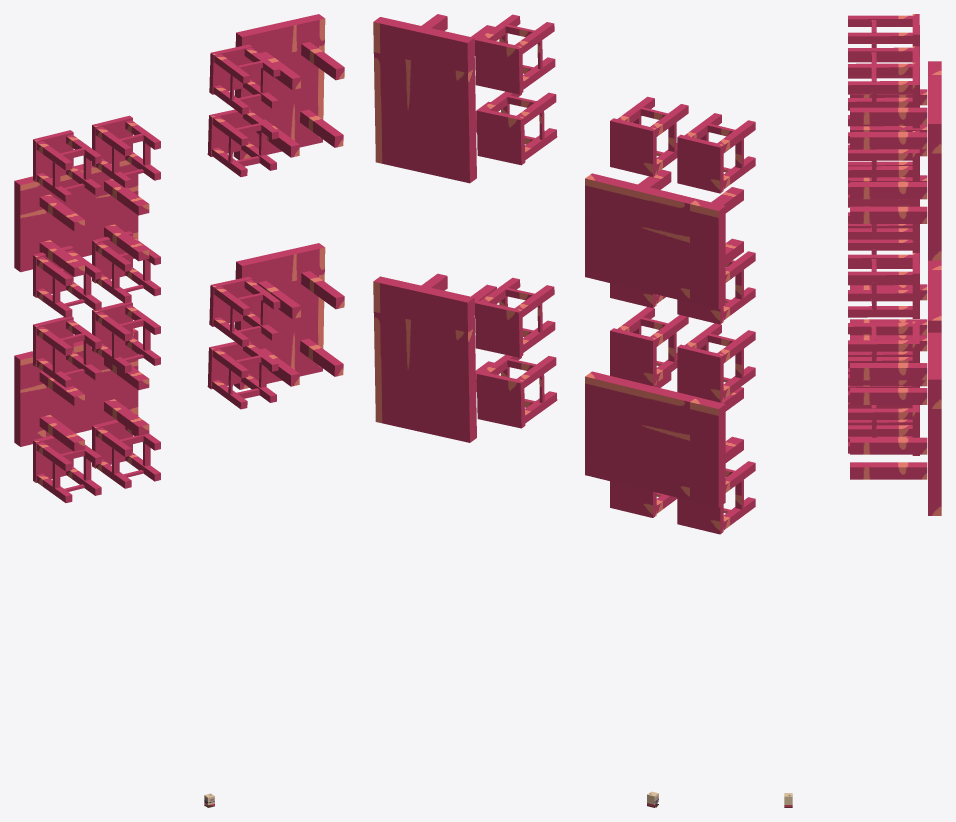
Rendered from aabuilding.fbx.
The picture shows the model from 3 angles, left to right: view 1: azimuth 30°, elevation 25°; view 2: azimuth 150°, elevation 25°; view 3: azimuth 270°, elevation 25°; orthographic projection. The views are drawn at different scales.
Visible parts, largest first — view 1: Cube__37_, Cube__21_, Cube__23_, Cube__22_, Cube__41_, Cube__40_; view 2: Cube__37_, Cube__21_, Cube__23_, Cube__22_, Cube__41_, Cube__40_; view 3: Cube__23_, Cube__37_, Cube__22_, Cube__21_, Cube__41_, Cube__40_.
Part boxes in pixels (left/top/right/bottom): Cube__37_: left=14, top=302, right=160, bottom=502; Cube__21_: left=14, top=115, right=160, bottom=317; Cube__23_: left=207, top=243, right=344, bottom=409; Cube__22_: left=233, top=14, right=344, bottom=159; Cube__41_: left=209, top=44, right=280, bottom=114; Cube__40_: left=207, top=108, right=278, bottom=176; Cube__37_: left=585, top=307, right=755, bottom=534; Cube__21_: left=585, top=96, right=755, bottom=324; Cube__23_: left=373, top=273, right=557, bottom=442; Cube__22_: left=373, top=14, right=494, bottom=183; Cube__41_: left=475, top=14, right=555, bottom=94; Cube__40_: left=476, top=91, right=557, bottom=165; Cube__23_: left=848, top=321, right=941, bottom=515; Cube__37_: left=848, top=223, right=941, bottom=442; Cube__22_: left=850, top=77, right=941, bottom=260; Cube__21_: left=848, top=14, right=941, bottom=241; Cube__41_: left=848, top=62, right=919, bottom=128; Cube__40_: left=848, top=130, right=919, bottom=194.
Bounding box in the file's own units: 32928 × 72233 × 13210.
